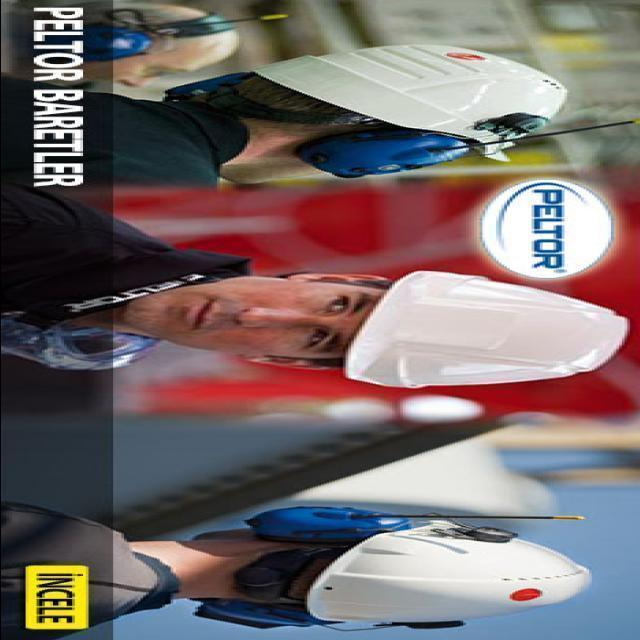white helmet: (241, 19, 579, 171), (336, 267, 639, 399), (300, 510, 598, 640)
